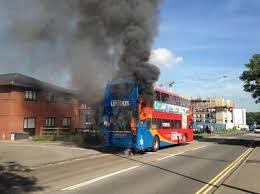fire: (129, 101, 154, 139)
smoke: (1, 0, 155, 108)
